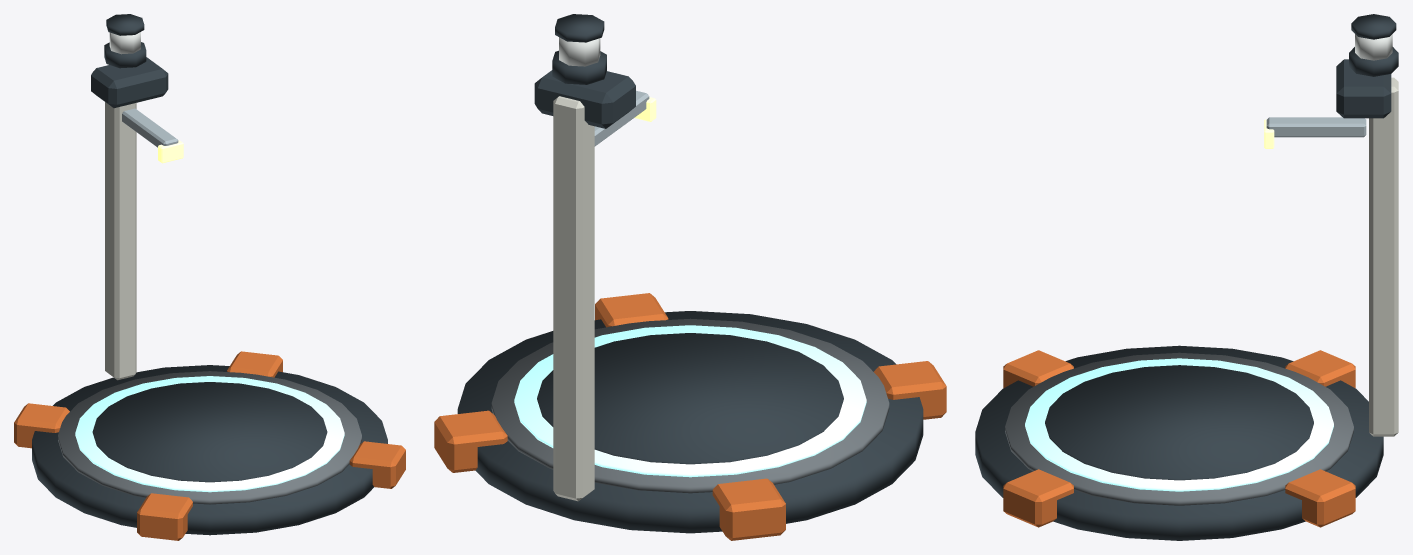
Rendered from chargepad.glb.
3 renders of one model, left to right at view 1: azimuth 30°, elevation 25°; view 2: azimuth 150°, elevation 25°; view 3: azimuth 270°, elevation 25°, orthographic. The views are drawn at different scales.
Visible parts, largest first — view 1: chargepad_dark, chargepad_ivory, chargepad_floor, chargepad_orange, chargepad_cyan, chargepad_metal, Lamp.008; view 2: chargepad_dark, chargepad_ivory, chargepad_floor, chargepad_orange, chargepad_cyan, Lamp.008, chargepad_metal; view 3: chargepad_dark, chargepad_ivory, chargepad_floor, chargepad_orange, chargepad_cyan, chargepad_metal, Lamp.008.
Part boxes in pixels (x1,y1,x2,y2): chargepad_dark: (32, 14, 387, 535); chargepad_ivory: (105, 102, 136, 380); chargepad_floor: (58, 371, 361, 504); chargepad_orange: (14, 351, 405, 540); chargepad_cyan: (75, 376, 344, 492); chargepad_metal: (122, 108, 178, 147); Lamp.008: (109, 32, 140, 54); chargepad_dark: (457, 14, 923, 533); chargepad_ivory: (553, 96, 594, 501); chargepad_floor: (491, 318, 889, 493); chargepad_orange: (434, 293, 946, 540); chargepad_cyan: (514, 325, 866, 477); Lamp.008: (559, 37, 600, 66); chargepad_metal: (594, 90, 649, 146); chargepad_dark: (975, 14, 1398, 540); chargepad_ivory: (1369, 77, 1398, 436); chargepad_floor: (1005, 352, 1353, 505); chargepad_orange: (1003, 350, 1355, 527); chargepad_cyan: (1025, 358, 1333, 491); chargepad_metal: (1266, 117, 1366, 137); Lamp.008: (1355, 34, 1392, 60).
Size of the model in its own units: 1.64 by 1.91 by 1.7.
